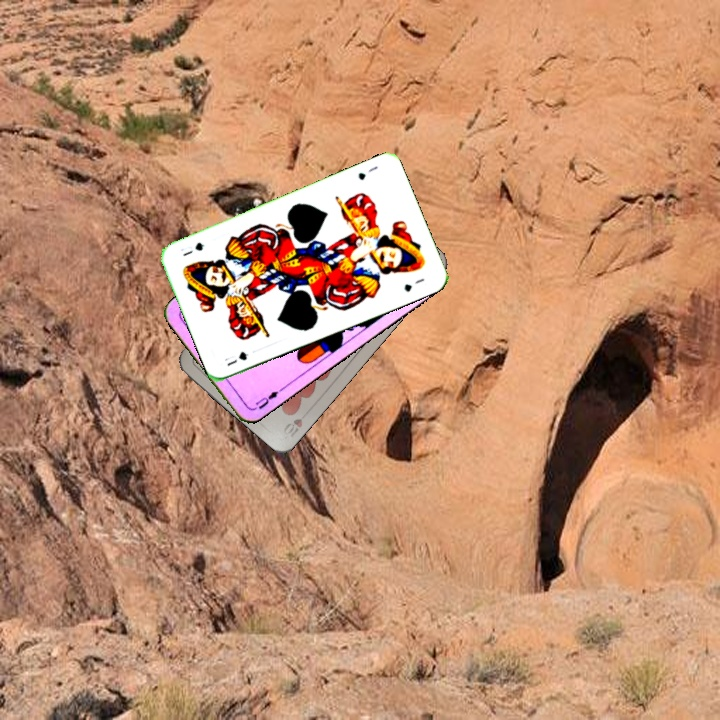EU: (249, 385, 284, 413)
GU: (220, 347, 250, 369), (354, 162, 380, 183)
H10: (279, 406, 311, 441)
